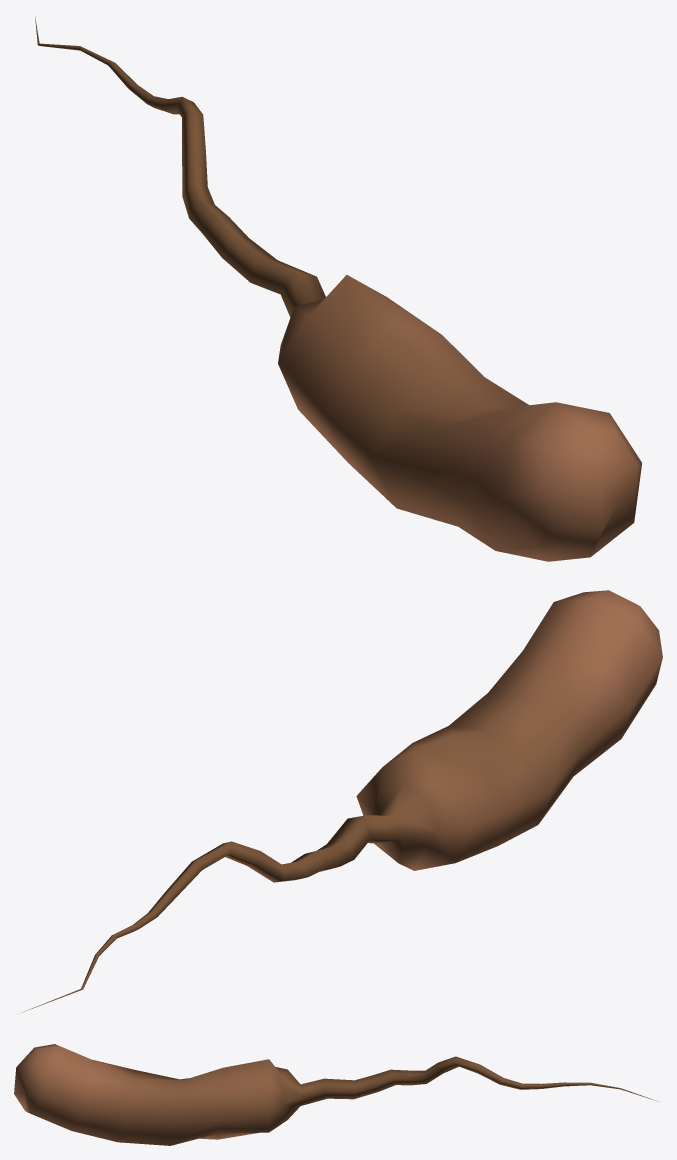
The model's file is microscopic-bacteria-comma-bacterium_v1.glb.
The picture shows the model from 3 angles, top to bottom: view 1: azimuth 30°, elevation 25°; view 2: azimuth 150°, elevation 25°; view 3: azimuth 270°, elevation 25°; orthographic projection. The views are drawn at different scales.
Visible parts, largest first — view 1: Comma Bacterium_v1; view 2: Comma Bacterium_v1; view 3: Comma Bacterium_v1.
Part boxes in pixels (x1=…): Comma Bacterium_v1: x1=35, y1=16, x2=641, y2=561; Comma Bacterium_v1: x1=22, y1=590, x2=662, y2=1012; Comma Bacterium_v1: x1=14, y1=1044, x2=658, y2=1145.
Bounding box in the file's own units: 0.0671 × 0.0801 × 0.5.
